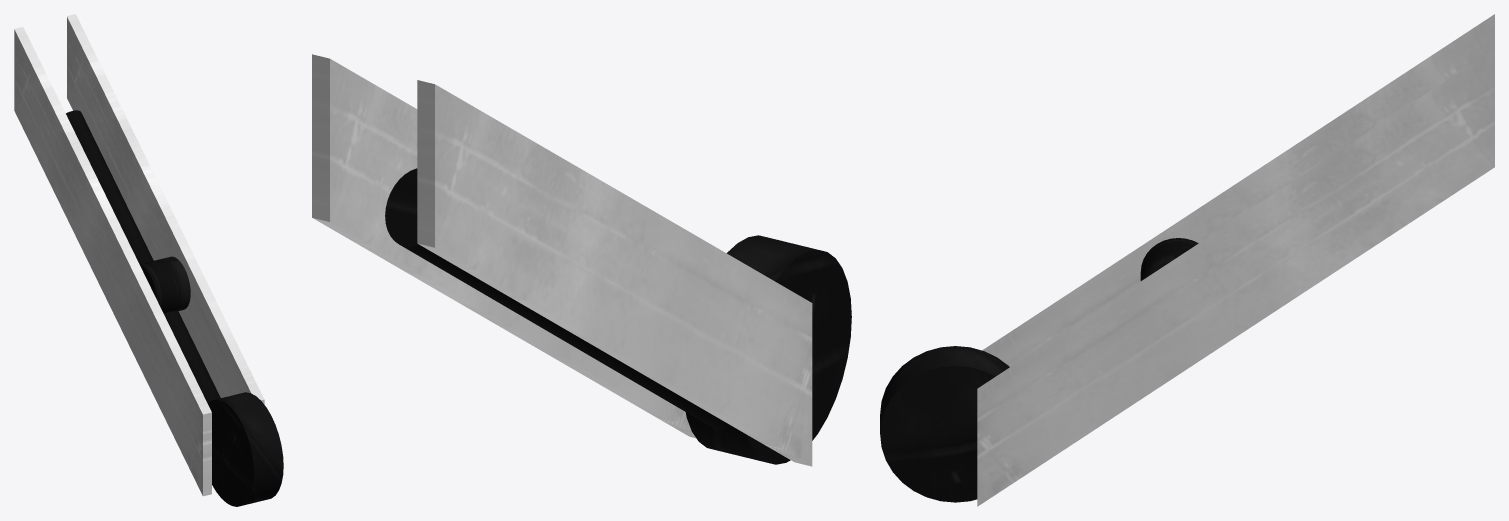
File: left_lower_leg.obj
The picture shows the model from 3 angles, left to right: view 1: azimuth 30°, elevation 25°; view 2: azimuth 150°, elevation 25°; view 3: azimuth 270°, elevation 25°; orthographic projection. The views are drawn at different scales.
Parts seen in each view (by area): view 1: Cube.002, Cylinder.112, Cylinder.111, Cylinder.115; view 2: Cube.002, Cylinder.112, Cylinder.111; view 3: Cube.002, Cylinder.112, Cylinder.115.
Boxes of the visible parts, x1,y1,x2,y2 form: Cube.002: [14, 14, 264, 496]; Cylinder.112: [207, 392, 283, 506]; Cylinder.111: [66, 110, 220, 403]; Cylinder.115: [139, 256, 190, 313]; Cube.002: [312, 54, 812, 466]; Cylinder.112: [685, 235, 851, 464]; Cylinder.111: [385, 168, 729, 429]; Cube.002: [977, 14, 1494, 506]; Cylinder.112: [880, 346, 1009, 502]; Cylinder.115: [1140, 238, 1198, 280].
Bounding box in the file's own units: 0.0903 × 0.4683 × 0.5694.
